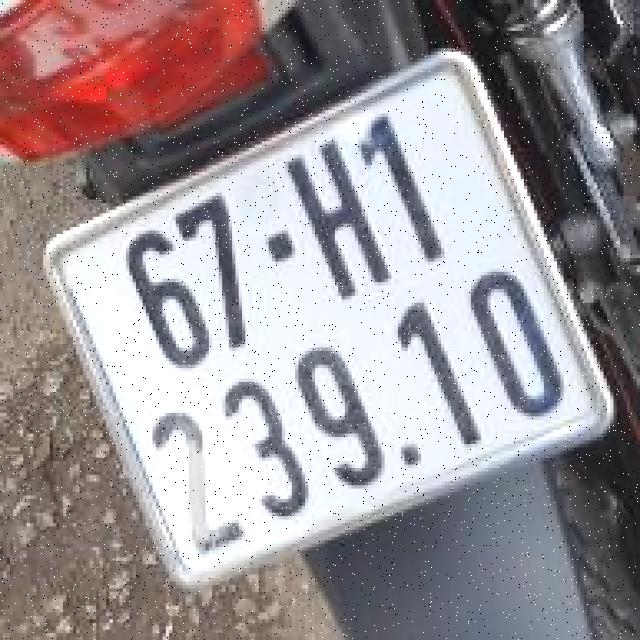0: (452, 250, 588, 438)
1: (381, 286, 506, 471), (344, 98, 470, 279)
2: (137, 393, 259, 570)
3: (207, 366, 328, 532)
6: (114, 221, 220, 384)
7: (168, 185, 276, 362)
9: (280, 330, 400, 502)
H: (271, 116, 416, 319)
